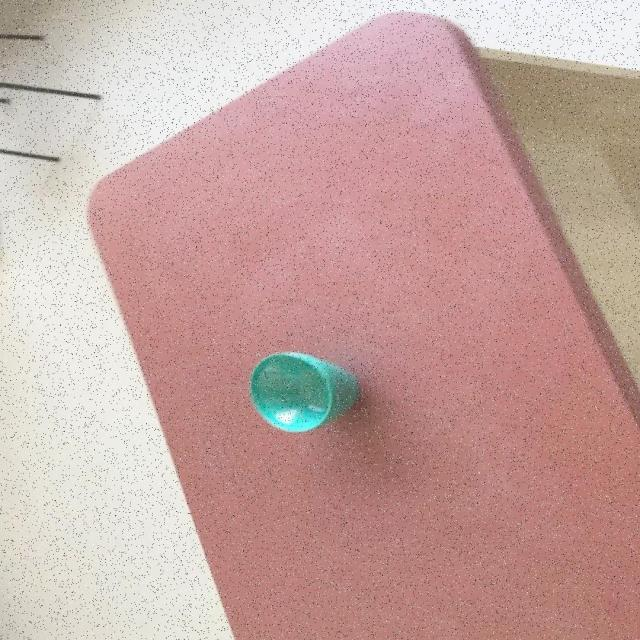Bowl: (86, 8, 640, 639), (249, 350, 361, 433)
